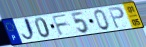0: (93, 8, 112, 31), (34, 17, 52, 39)
5: (69, 10, 91, 34)
F: (51, 13, 69, 37)
J: (21, 17, 38, 43)
P: (107, 6, 126, 30)
